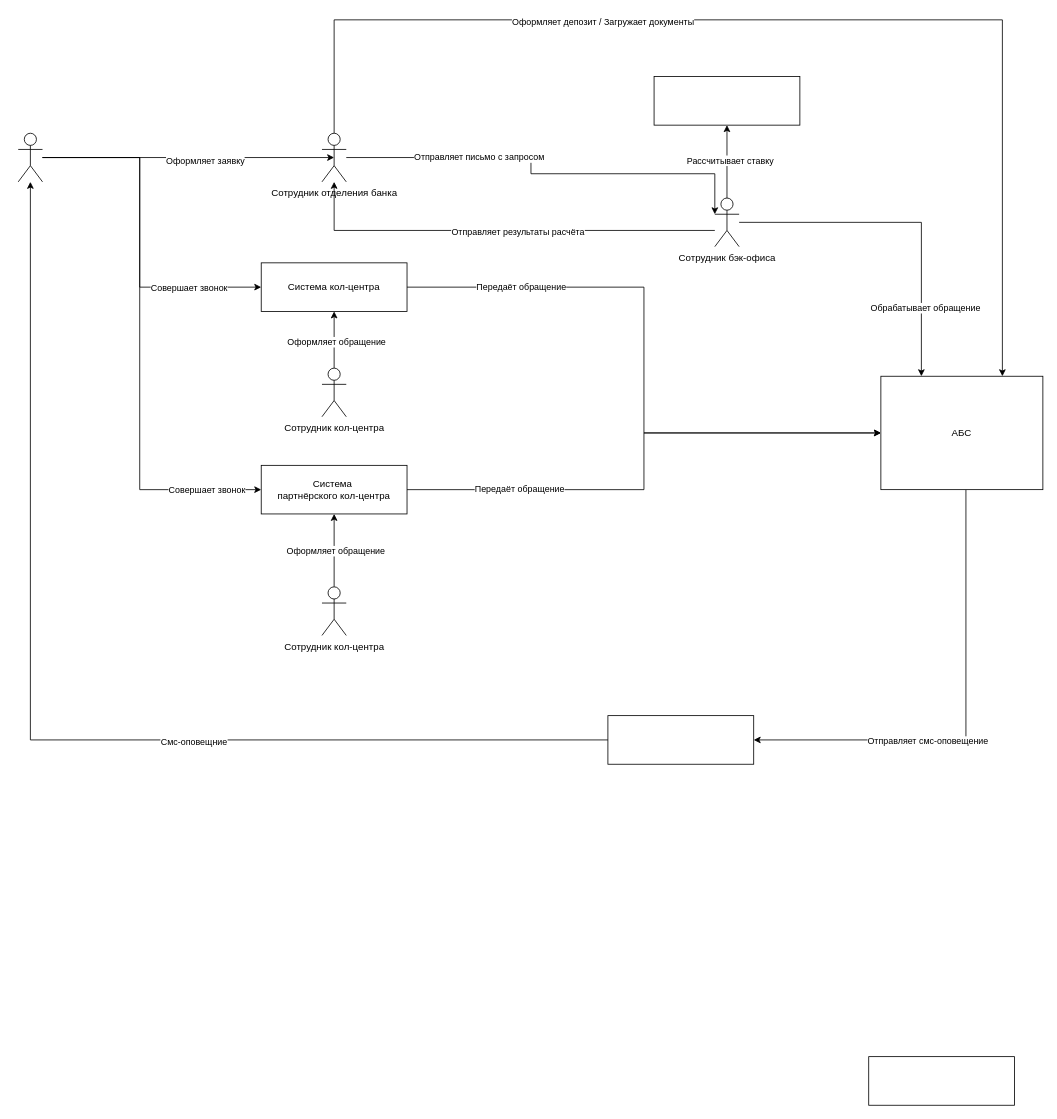
The diagram is 1057 pixels wide and 1119 high, and some of its shapes have lost their labels. Each missing label, with the centre of its shape:
"Excel" goes at point (726, 100).
"Интернет-банк" goes at point (941, 1080).
"Клиент" goes at point (30, 157).
"Смс-шлюз телеком-оператора" goes at point (680, 739).
